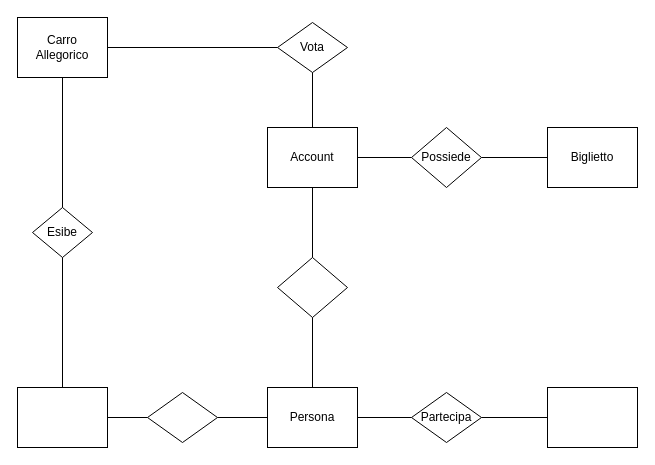
The diagram is 655 pixels wide and 465 high, and some of its shapes have lost their labels. The centre of each missing label's shape, as x and y in pixels:
"Appartiene" goes at pixel 312 287.
"Area" goes at pixel 62 417.
"Circola" goes at pixel 182 417.
"Spettacolo" goes at pixel 592 417.
